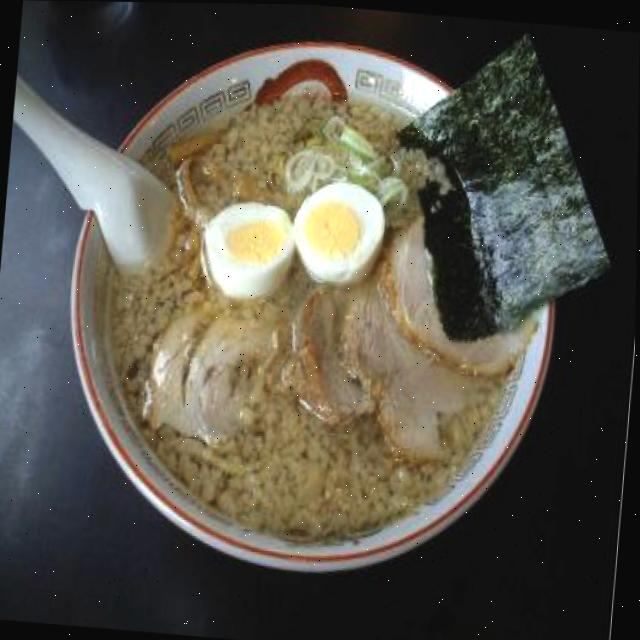面条主食: (39, 8, 594, 594)
